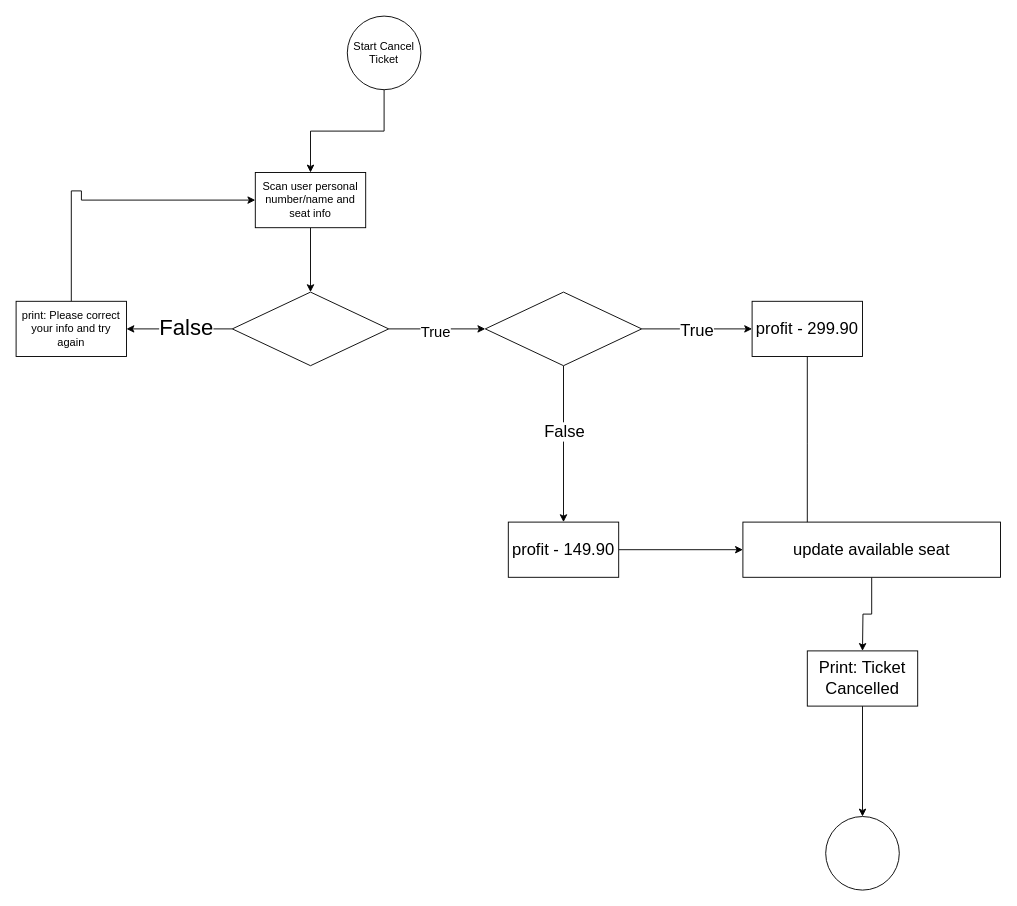
Image size: 1017x906. Some labels were removed from this diagram. Here are the shapes that lost their labels. From the top down, the centre of each, then its label:
At point (310, 328): "correctInfo?".
At point (563, 328): "user >= 18".
At point (862, 853): "End".
